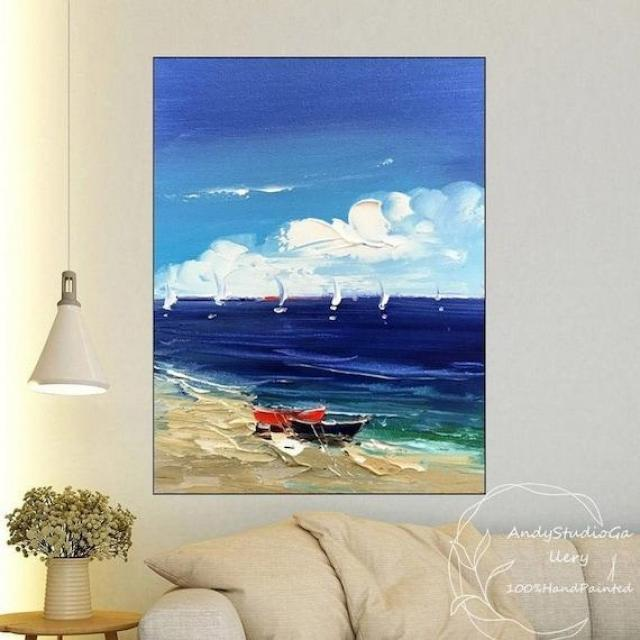painting: (153, 56, 483, 492)
